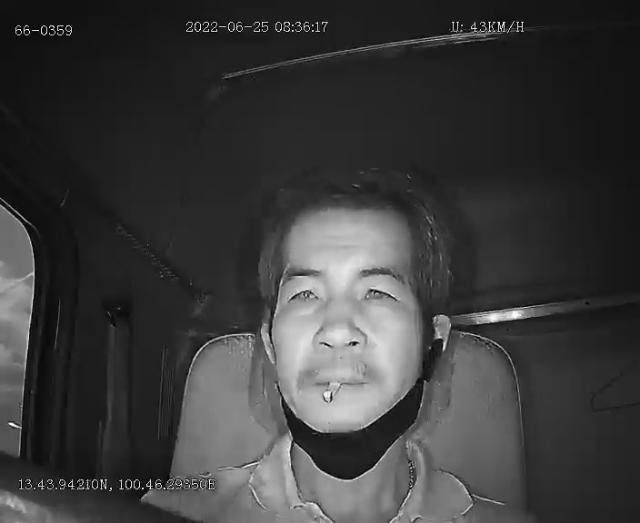SafeDriving: (353, 272, 405, 311), (281, 274, 329, 311)
Smoking: (322, 380, 342, 402)
